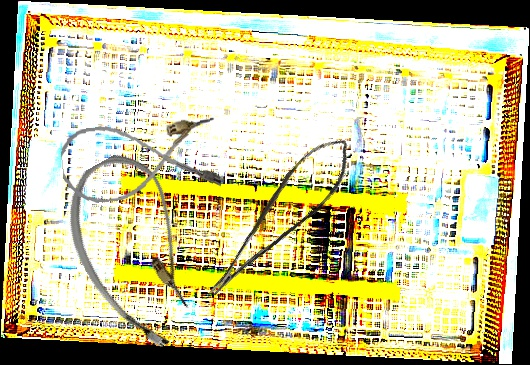Cannula: (43, 141, 231, 362), (58, 115, 222, 206)
Micro Scissor: (183, 127, 369, 302)
